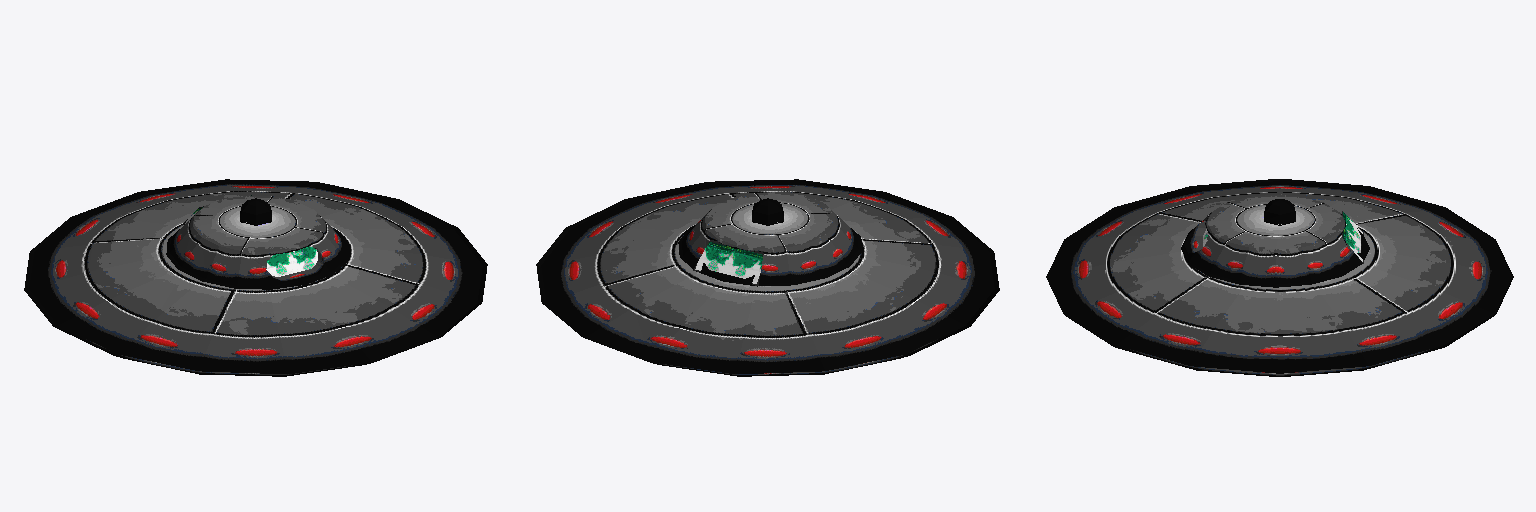
3 renders of one model, left to right at view 1: azimuth 30°, elevation 25°; view 2: azimuth 150°, elevation 25°; view 3: azimuth 270°, elevation 25°, orthographic.
Parts seen in each view (by area): view 1: ufo_top, ufo_bottom, ufo_aliens; view 2: ufo_top, ufo_bottom, ufo_aliens; view 3: ufo_top, ufo_bottom, ufo_aliens.
Boxes of the visible parts, x1=… form: ufo_top: x1=29, y1=180, x2=482, y2=373; ufo_bottom: x1=24, y1=179, x2=487, y2=376; ufo_aliens: x1=182, y1=195, x2=317, y2=276; ufo_top: x1=541, y1=180, x2=994, y2=373; ufo_bottom: x1=536, y1=179, x2=999, y2=376; ufo_aliens: x1=693, y1=240, x2=763, y2=285; ufo_top: x1=1048, y1=181, x2=1511, y2=373; ufo_bottom: x1=1046, y1=179, x2=1513, y2=376; ufo_aliens: x1=1203, y1=211, x2=1363, y2=263.
Size of the model in its own units: 7.64 by 2.02 by 7.64.
Materials: 4 (4 with a texture image).